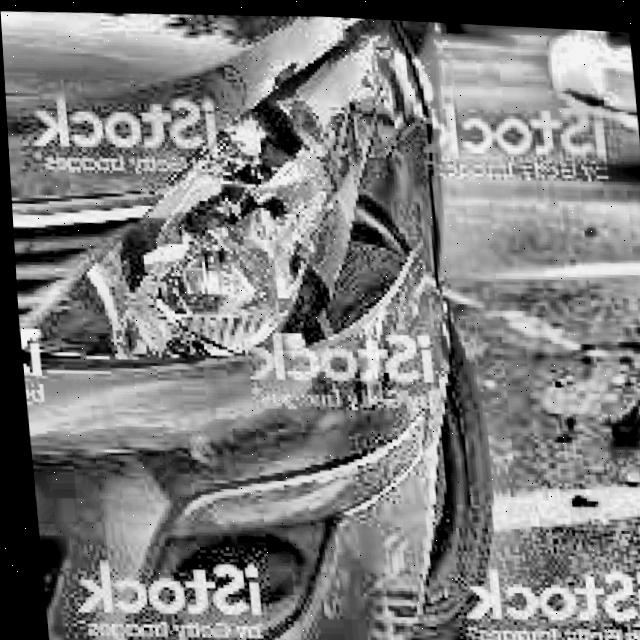head_lamp: (51, 107, 415, 390)
